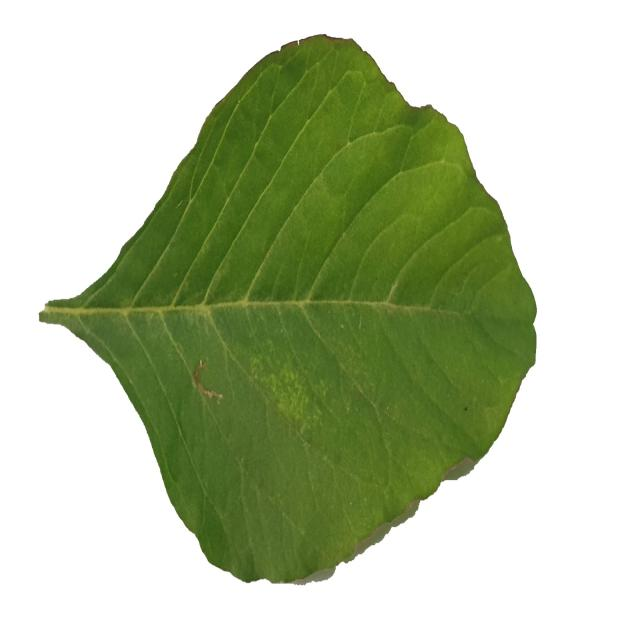Medicinal-Arive Dantu: (39, 36, 537, 584)
